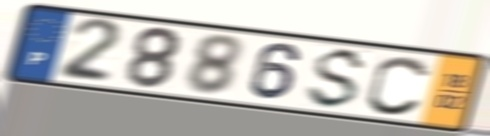2: (58, 17, 126, 83)
6: (248, 41, 303, 103)
8: (184, 31, 245, 99), (122, 25, 183, 91)
C: (364, 53, 434, 118)
S: (302, 46, 371, 112)
